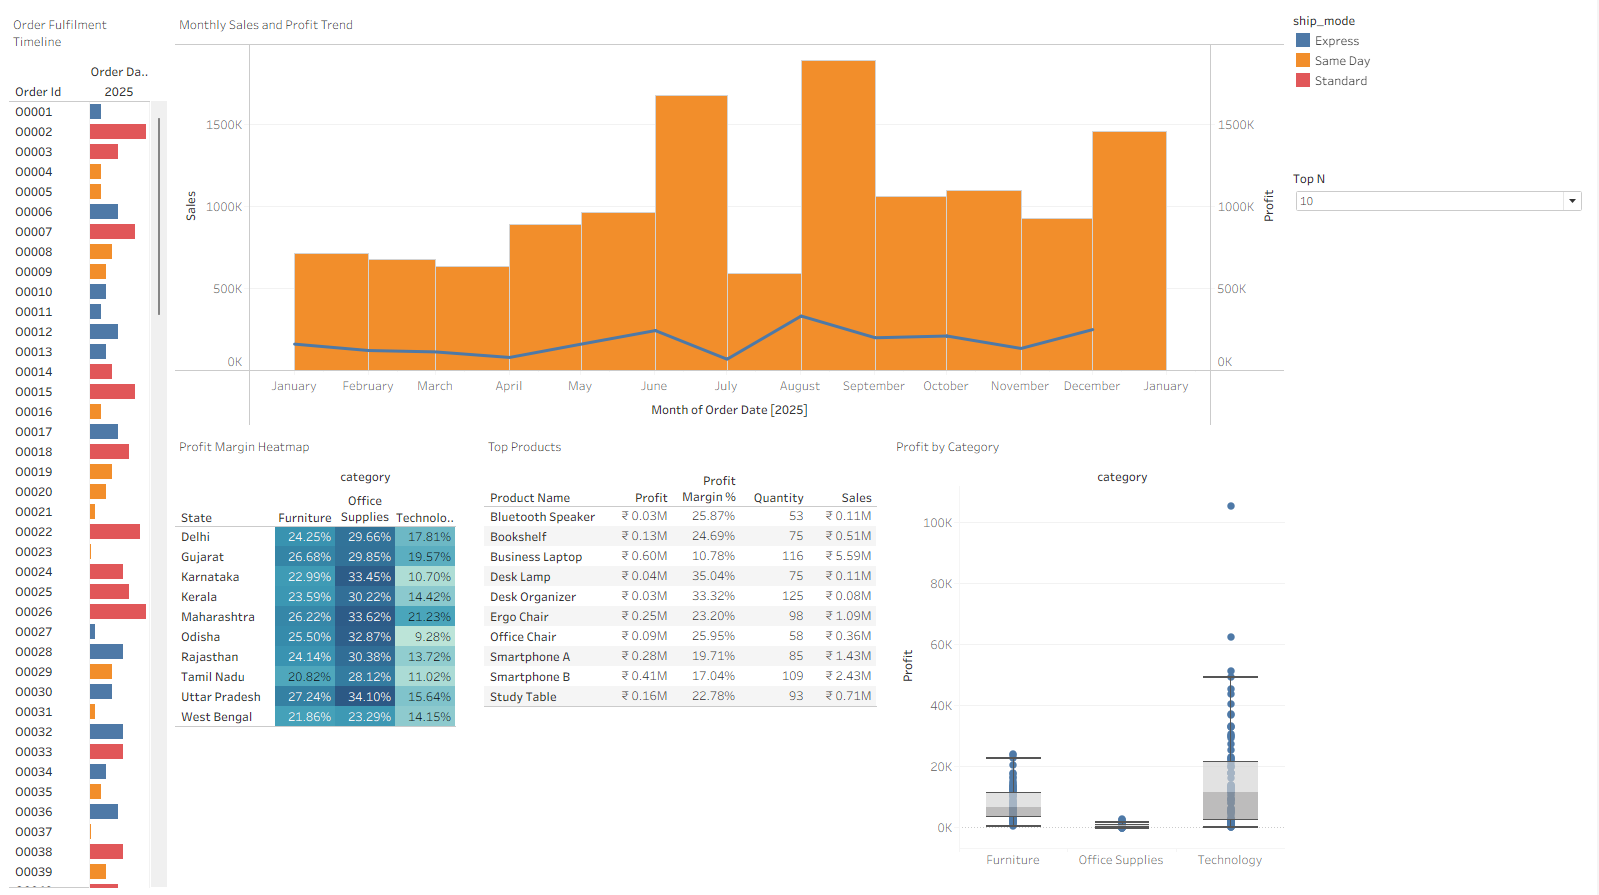

The page's visual inventory and layout, read from the dashboard file:
{"tool":"tableau","page":{"name":"Target Fulfillments","canvas":[1600,900],"ordinal":1},"visuals":[{"type":"worksheet","title":"Order Fulfilment Timeline","mark":"GanttBar","rows":["order_id"],"cols":["order_date"],"box":[8,8,166,884]},{"type":"worksheet","title":"Monthly Sales and Profit Trend","mark":"Automatic","rows":["Calculation_1670996745297920","Calculation_1670996746293252"],"cols":["order_date"],"box":[174,8,1118,422]},{"type":"legend","title":"Order Fulfilment Timeline","param":"[federated.15o31451ywobr41h5fkt01c70afe].[none:ship_mode:nk]","box":[1292,8,300,158]},{"type":"parameter","param":"[Parameters].[Parameter 3]","box":[1292,166,300,52]},{"type":"worksheet","title":"Profit Margin by State and Category","mark":"Square","rows":["state"],"cols":["category"],"box":[174,430,309,301]},{"type":"worksheet","title":"Top Products","mark":"Automatic","rows":["product_name"],"box":[483,430,408,422]},{"type":"worksheet","title":"Profit by Category","mark":"Circle","rows":["Calculation_1670996746293252"],"cols":["category"],"box":[891,430,401,462]}]}

Visuals, with their boxes in screenshot pixels (x1, y1, x2, y2), scaled from the page's 1600x900 canvas onto the 1599x895 screenshot:
"Order Fulfilment Timeline" worksheet (GanttBar marks): bbox(8, 8, 174, 887)
"Monthly Sales and Profit Trend" worksheet: bbox(174, 8, 1291, 428)
"Order Fulfilment Timeline" legend: bbox(1291, 8, 1591, 165)
parameter: bbox(1291, 165, 1591, 217)
"Profit Margin by State and Category" worksheet (Square marks): bbox(174, 428, 483, 727)
"Top Products" worksheet: bbox(483, 428, 890, 847)
"Profit by Category" worksheet (Circle marks): bbox(890, 428, 1291, 887)
